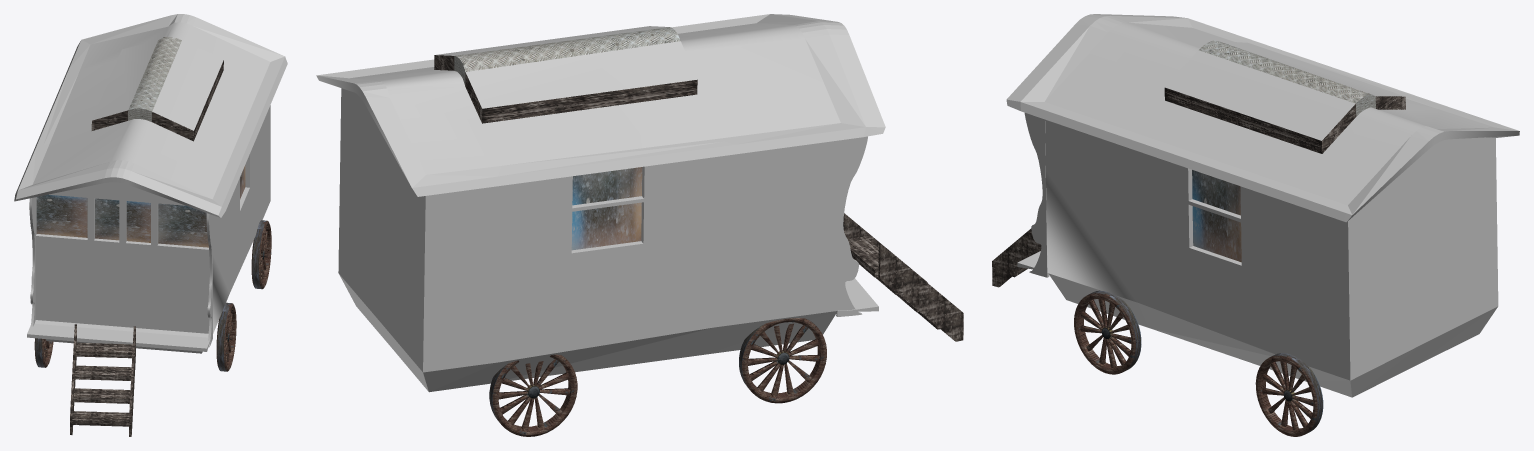
Rendered from Caravan_03.FBX.
3 renders of one model, left to right at view 1: azimuth 30°, elevation 25°; view 2: azimuth 150°, elevation 25°; view 3: azimuth 270°, elevation 25°, orthographic. The views are drawn at different scales.
Visible parts, largest first — view 1: Box001, 2, Tube004, Tube005; view 2: Box001, Tube005, 2; view 3: Box001, Tube004, 2.
Part boxes in pixels (<box>): Box001: <box>14,14,287,353</box>; 2: <box>70,324,135,436</box>; Tube004: <box>216,220,271,371</box>; Tube005: <box>34,338,53,367</box>; Box001: <box>316,14,885,392</box>; Tube005: <box>489,318,826,436</box>; 2: <box>843,213,963,341</box>; Box001: <box>1006,14,1519,397</box>; Tube004: <box>1074,290,1323,436</box>; 2: <box>992,228,1041,287</box>.
Size of the model in its own units: 6.46 by 4.4 by 6.91.
